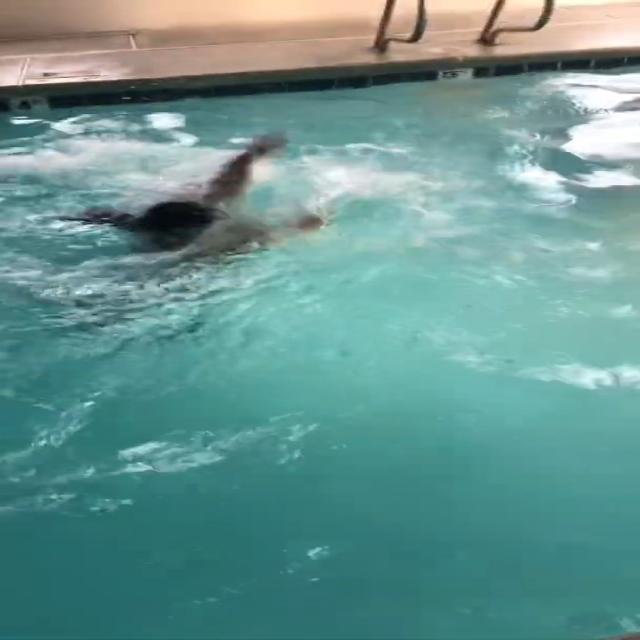Drowning: (37, 116, 371, 315)
